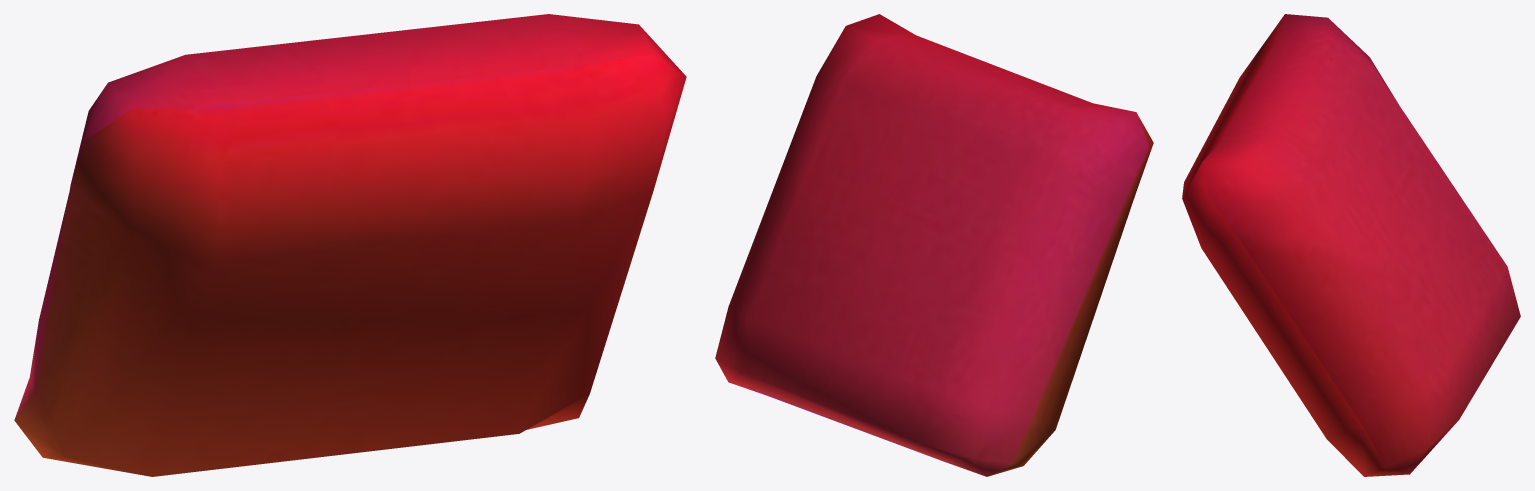
File: dirtySofaCushion.glb
3 renders of one model, left to right at view 1: azimuth 30°, elevation 25°; view 2: azimuth 150°, elevation 25°; view 3: azimuth 270°, elevation 25°, orthographic. The views are drawn at different scales.
Parts seen in each view (by area): view 1: dirtyCushion; view 2: dirtyCushion; view 3: dirtyCushion.
Part boxes in pixels (x1,y1,x2,y2): dirtyCushion: (14, 14, 686, 476); dirtyCushion: (715, 14, 1153, 476); dirtyCushion: (1182, 14, 1520, 476).
Bounding box in the file's own units: 0.7041 × 0.568 × 0.5616.
1 material, 1 textured.
